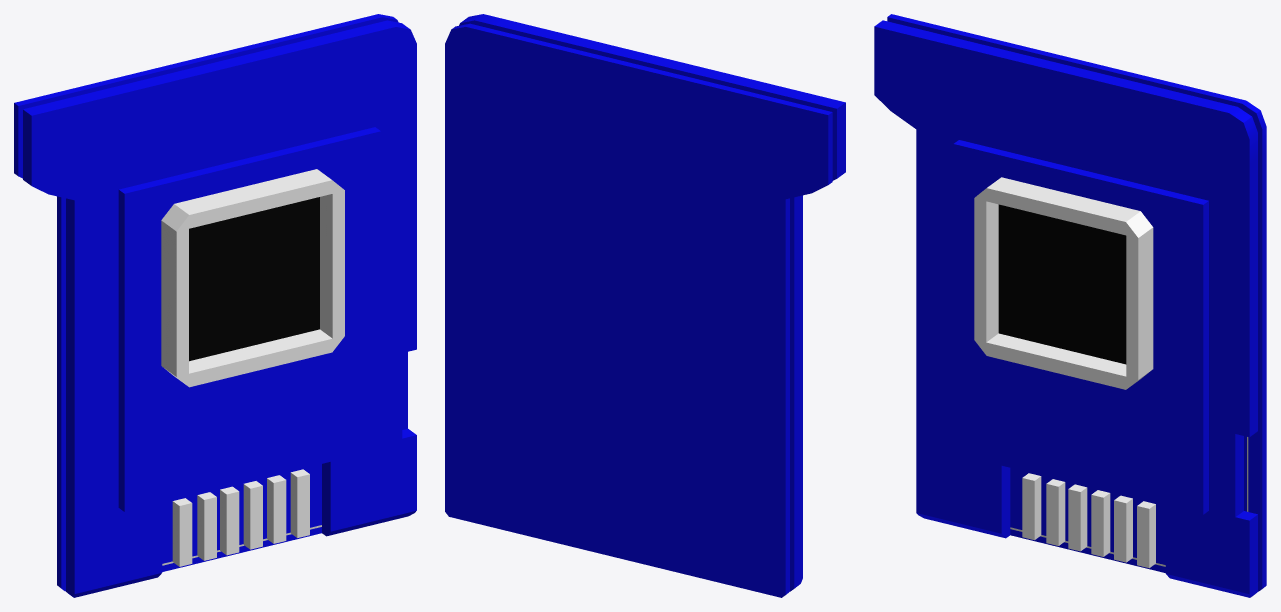
File: PuzzleKey.fbx
3 renders of one model, left to right at view 1: azimuth 30°, elevation 25°; view 2: azimuth 150°, elevation 25°; view 3: azimuth 330°, elevation 25°, orthographic. The views are drawn at different scales.
Parts seen in each view (by area): view 1: PuzzleKey; view 2: PuzzleKey; view 3: PuzzleKey.
Boxes of the visible parts, x1=… form: PuzzleKey: x1=14, y1=14, x2=416, y2=597; PuzzleKey: x1=445, y1=14, x2=845, y2=597; PuzzleKey: x1=874, y1=14, x2=1266, y2=597.
Bounding box in the file's own units: 40.82 × 50.3 × 7.11.
